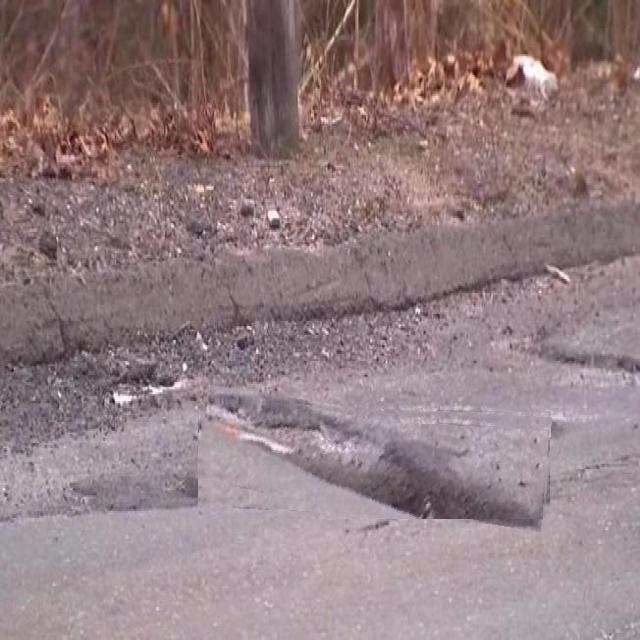Pothole: (198, 399, 552, 519)
